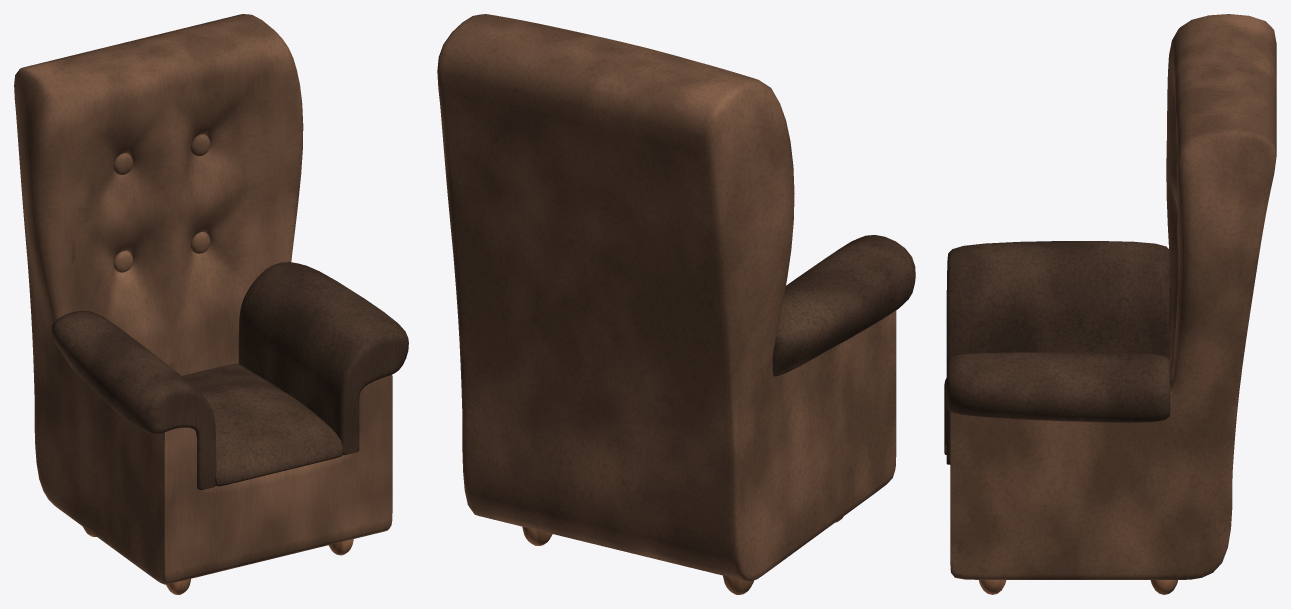
Rendered from leather_armchair.fbx.
3 renders of one model, left to right at view 1: azimuth 30°, elevation 25°; view 2: azimuth 150°, elevation 25°; view 3: azimuth 270°, elevation 25°, orthographic. The views are drawn at different scales.
Visible parts, largest first — view 1: Plane.008; view 2: Plane.008; view 3: Plane.008.
Part boxes in pixels (bbox=[...]): Plane.008: bbox=[14, 14, 408, 594]; Plane.008: bbox=[437, 14, 915, 594]; Plane.008: bbox=[944, 14, 1276, 594].
Size of the model in its own units: 662 by 1008 by 633.
Materials: 1 (1 with a texture image).
